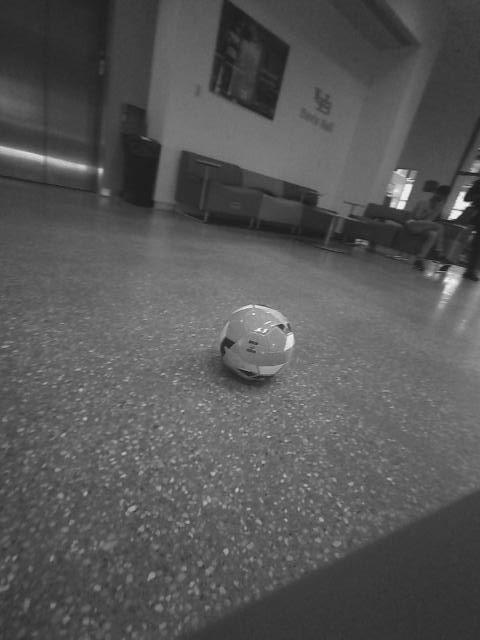ball: (267, 301, 346, 374)
